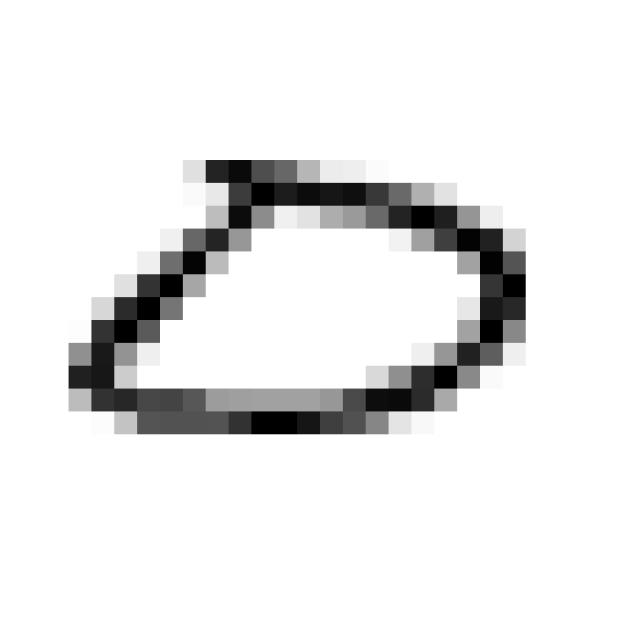5 -five-: (55, 137, 543, 453)
